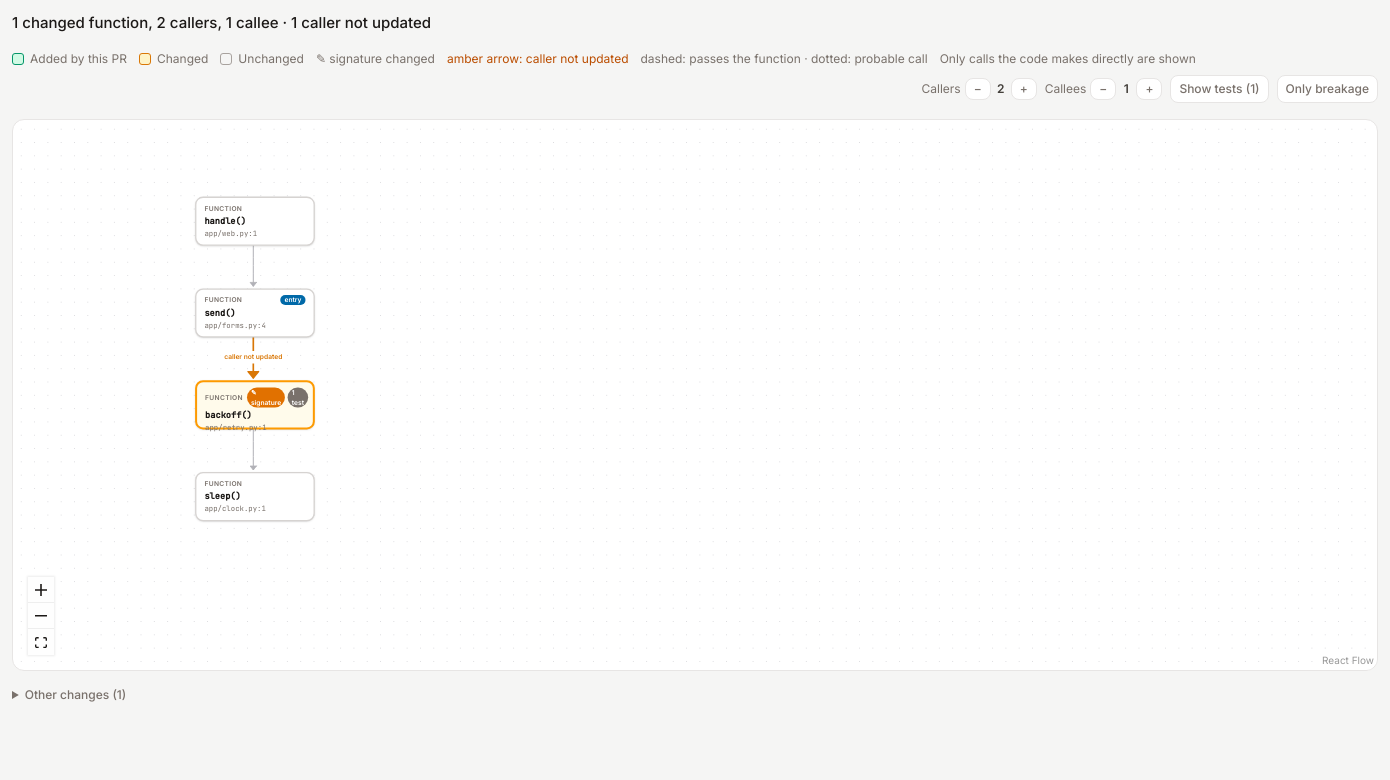
Test: the hop steppers change what's shown, stay within the tree's depth, and are kept
The image size is (1390, 780).
Click the button named "Fewer caller hops".
click(978, 88)  # box x1=965 y1=78 x2=991 y2=100
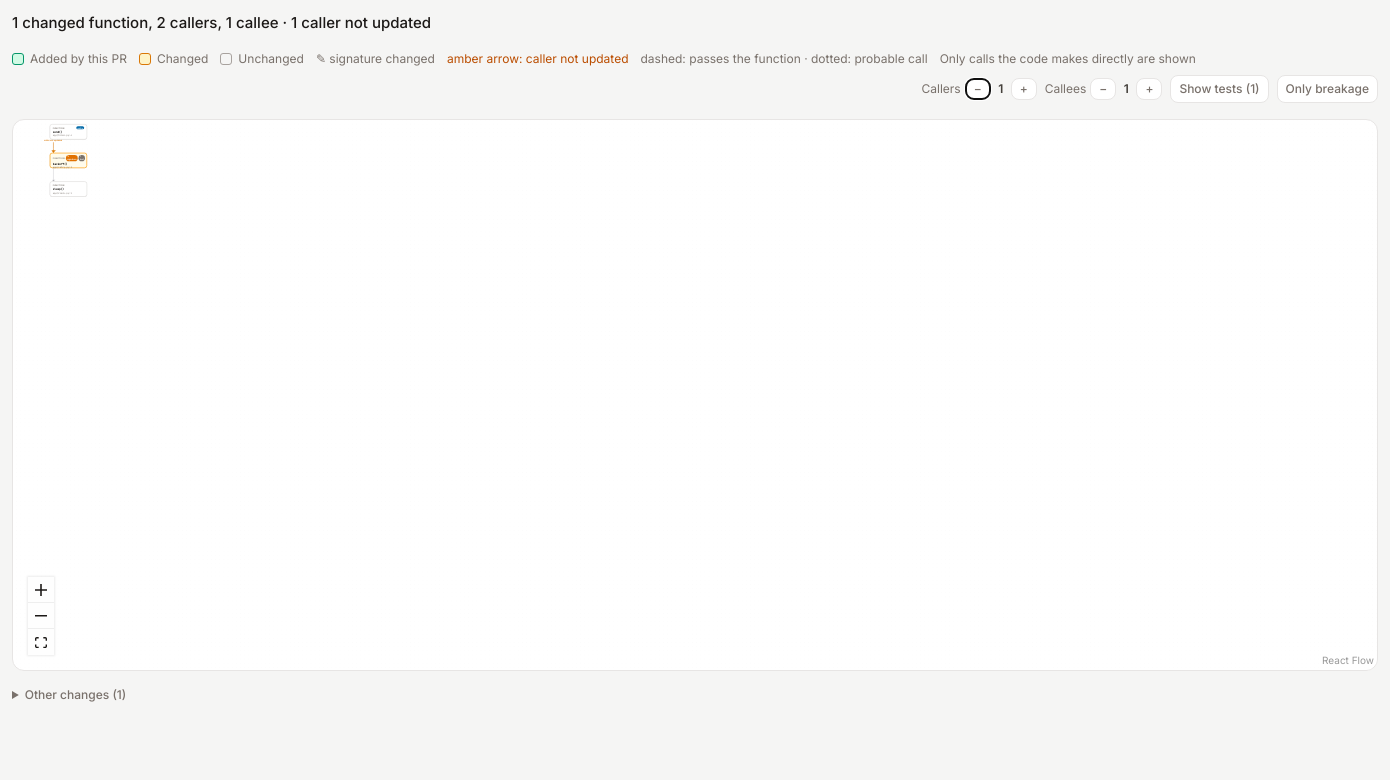
Expected: the text "send()" is shown, x1=53 y1=130 x2=62 y2=133
Expected: the button "handle()" is gone
Click the button named "Fewer callee hops".
click(1103, 88)  # box x1=1090 y1=78 x2=1116 y2=100
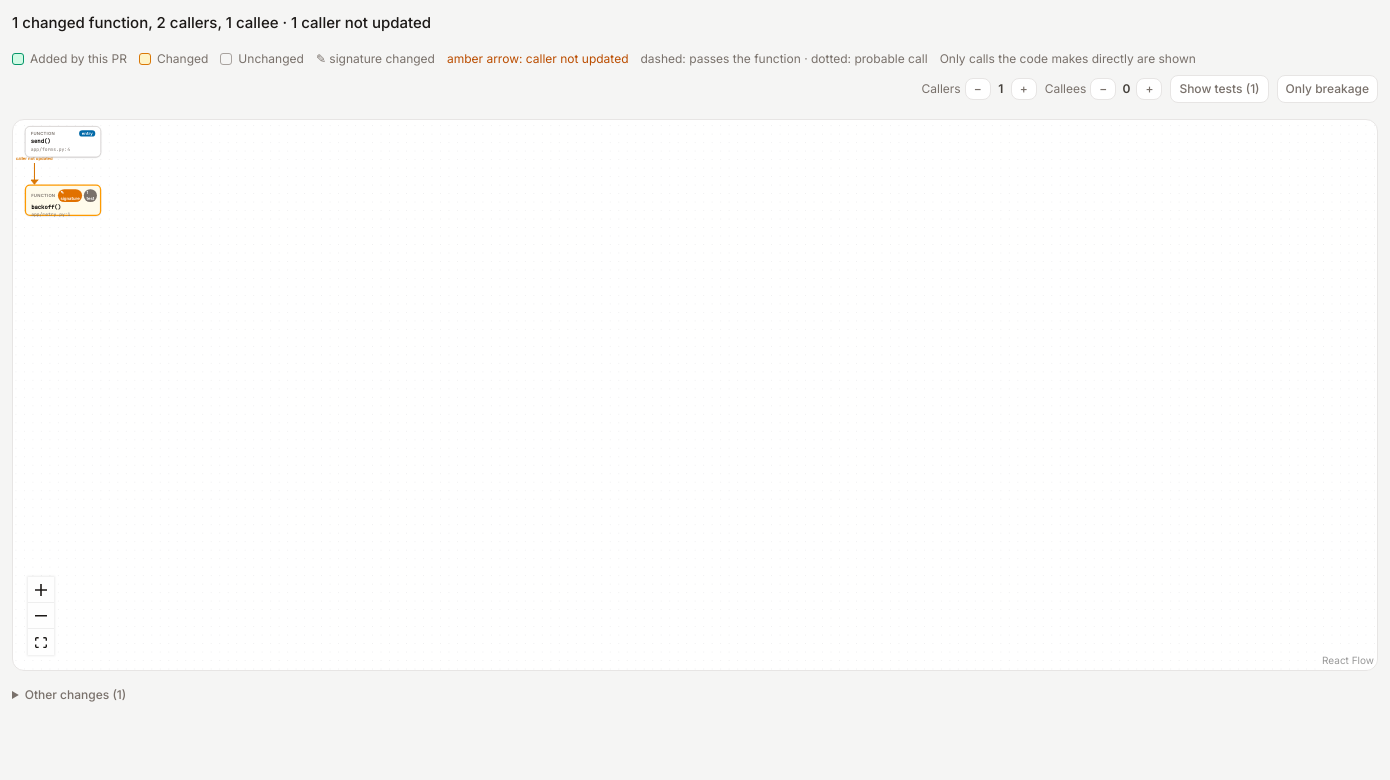
Expected: the button "sleep()" is gone
